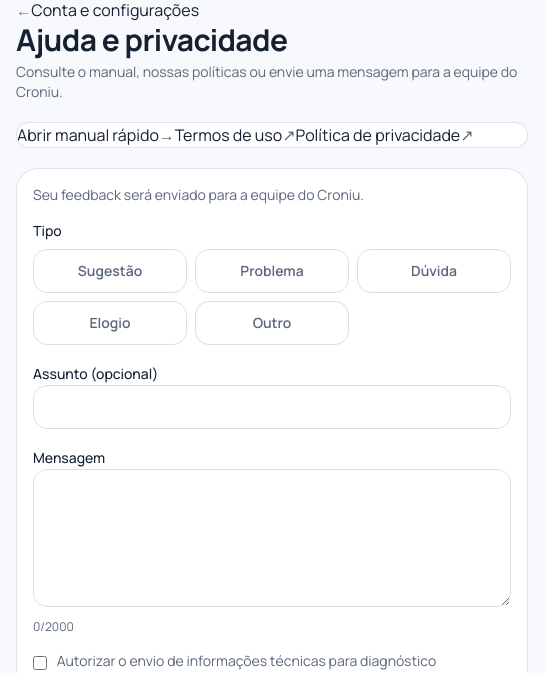
Help feedback form › blocks double submit while busy
Click the radio button "Problema" at (272, 271), box [195, 249, 349, 293]
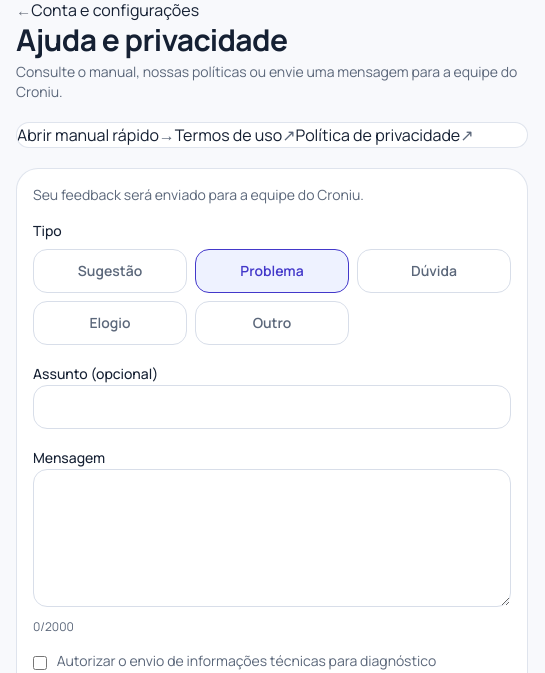
Type "Botão de salvar demora demais na agenda." into the text box labelled "Mensagem" at (272, 538), box [33, 469, 511, 607]
(page scrolled)
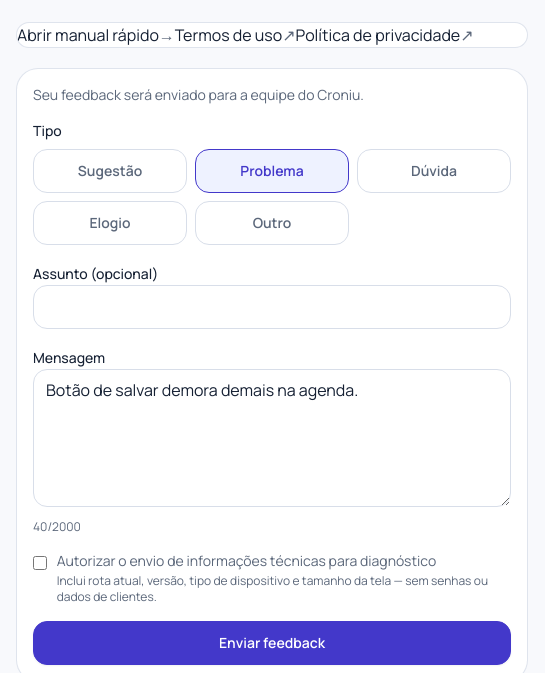
Click the button "Enviar feedback" at (272, 643), box [33, 621, 511, 665]
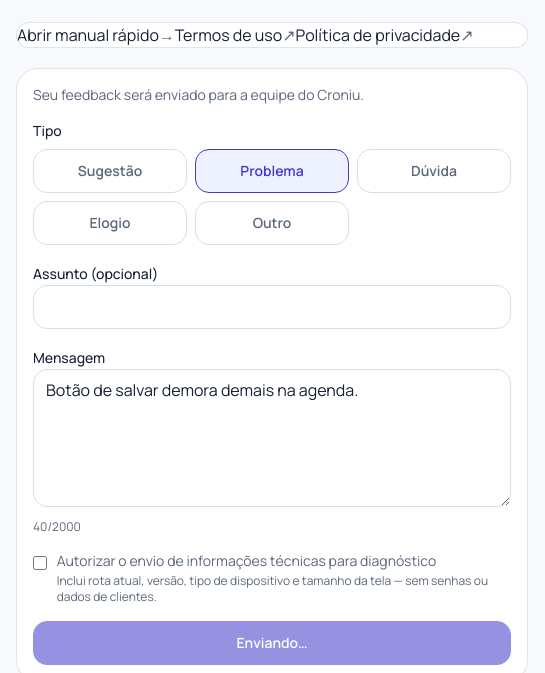
Click the button named "Enviar feedback" at (272, 643), box [33, 621, 511, 665]
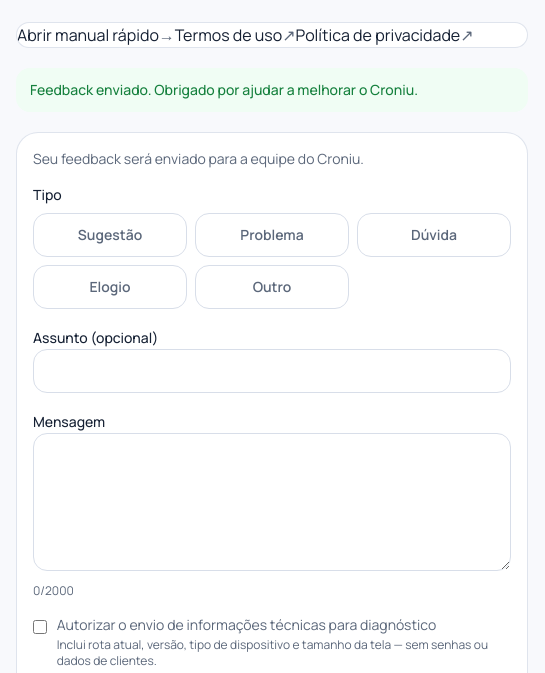
Check: the text "Feedback enviado. Obrigado por ajudar a melhorar o Croniu." is shown, box [16, 68, 528, 112]
